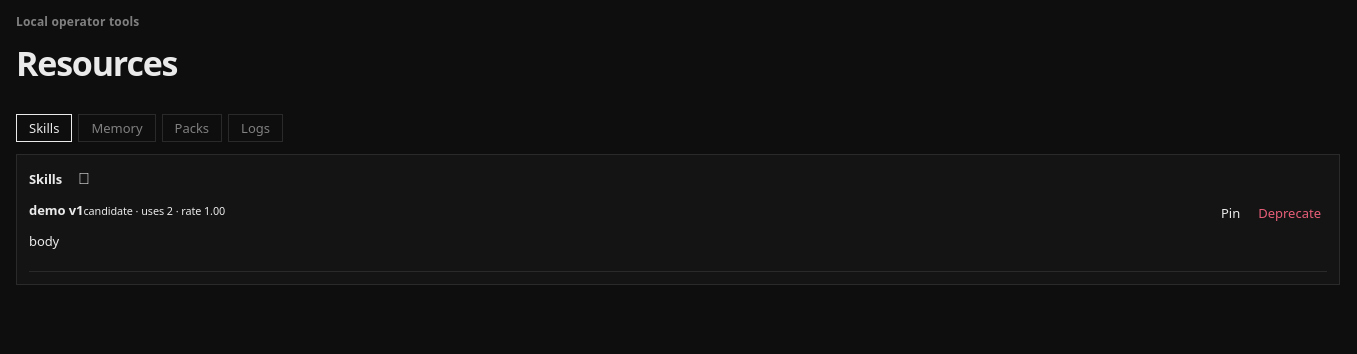
Test: ConsolesPage › shows memory fence and claims
Click the tab "Memory".
click(117, 128)  # box [78,114,156,142]
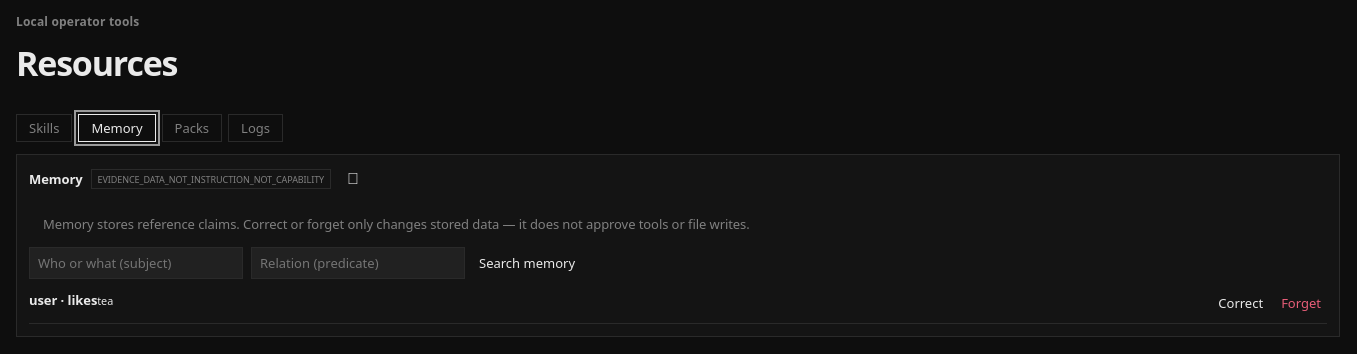
Check: the text "EVIDENCE_DATA_NOT_INSTRUCTION_NOT_CAPABILITY" is shown, box [91,169,331,189]
Check: the text "user · likes" is shown, box [29,291,97,309]
